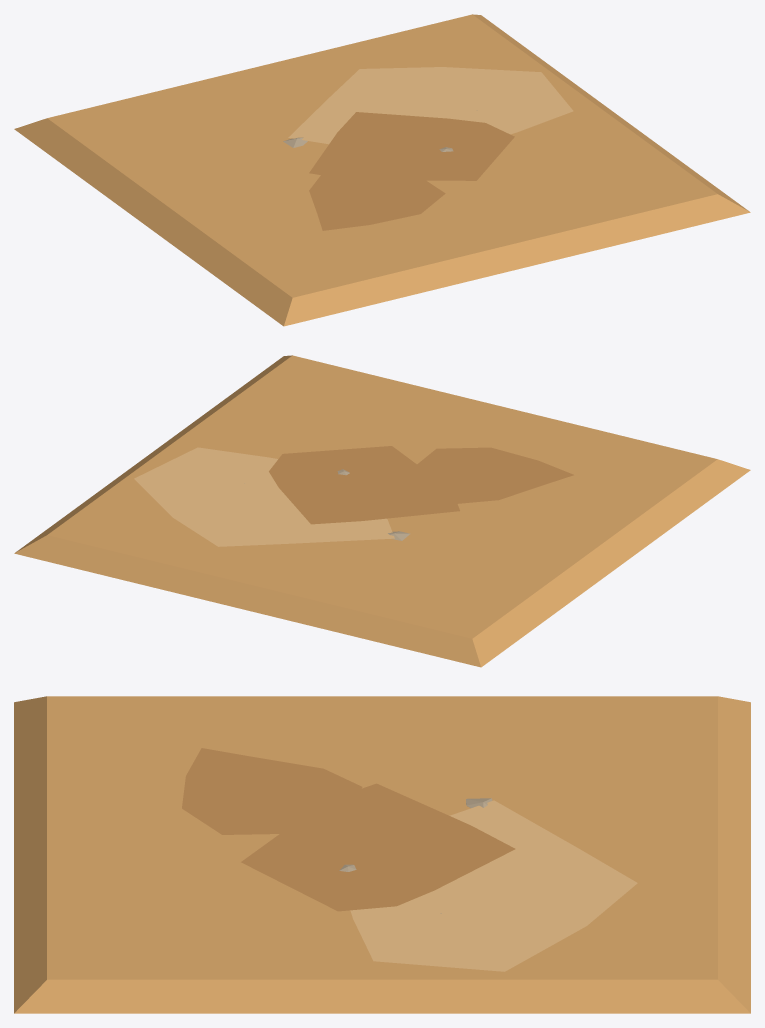
File: path.glb
The picture shows the model from 3 angles, top to bottom: view 1: azimuth 30°, elevation 25°; view 2: azimuth 150°, elevation 25°; view 3: azimuth 270°, elevation 25°; orthographic projection. The views are drawn at different scales.
Visible parts, largest first — view 1: path; view 2: path; view 3: path.
Boxes of the visible parts, <box> form: path: <box>14,14,750,326</box>; path: <box>14,355,750,667</box>; path: <box>14,696,750,1013</box>.
Size of the model in its own units: 1 by 0.039 by 1.
